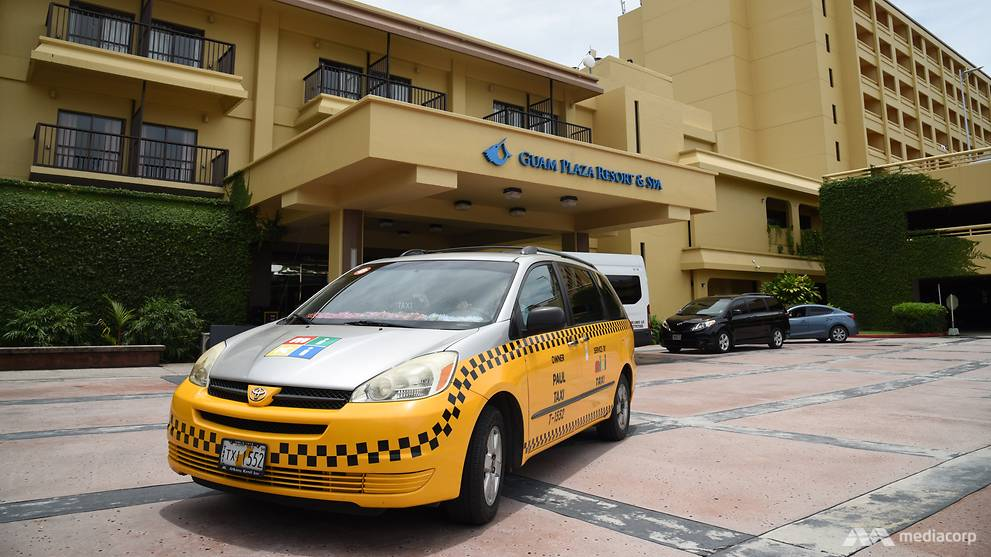car: (148, 226, 668, 541)
